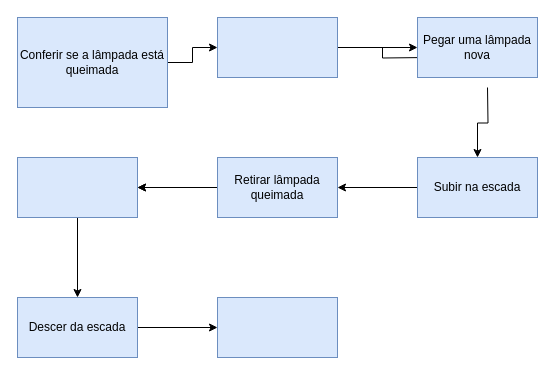
Image size: 555x375. Some labels were removed from this diagram. Each missing label, with the box of its shape:
Colocar a nova: (16, 156, 138, 218)
Pegar uma escada: (216, 16, 338, 78)
testar lâmpada nova: (216, 296, 338, 358)
